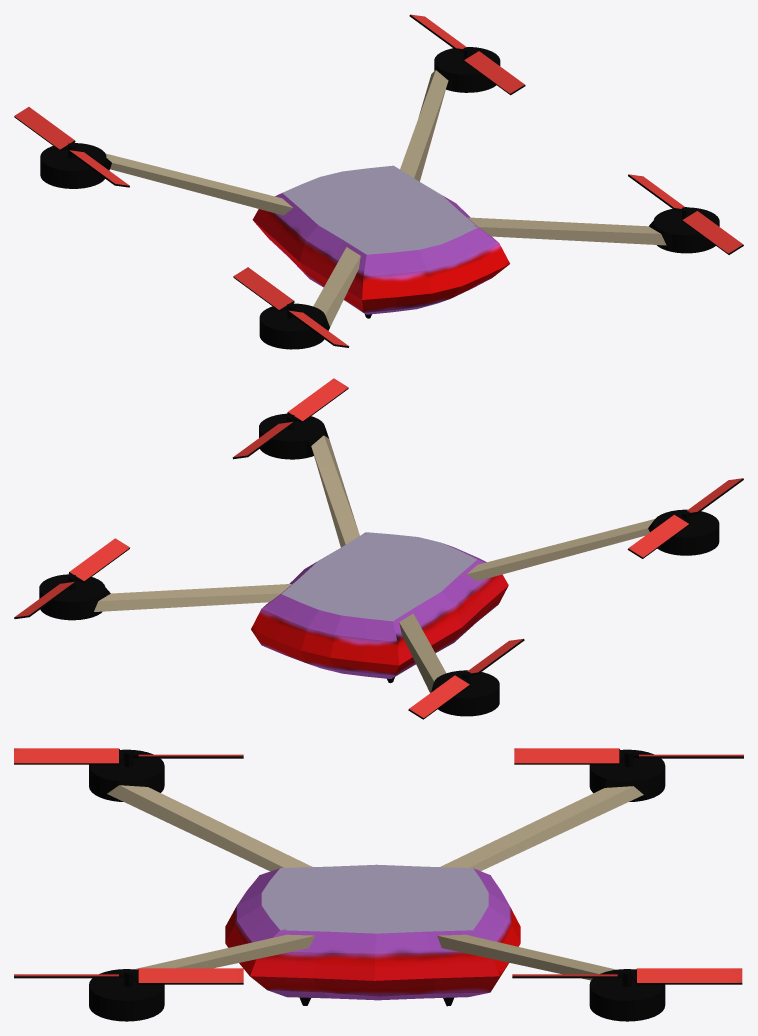
File: drona.obj
3 views of the same model, one above another, from view 1: azimuth 30°, elevation 25°; view 2: azimuth 150°, elevation 25°; view 3: azimuth 270°, elevation 25° (orthographic). The views are drawn at different scales.
Parts seen in each view (by area): view 1: Cube; view 2: Cube; view 3: Cube.
Boxes of the visible parts, x1,y1,x2,y2 form: Cube: (14, 14, 743, 349); Cube: (14, 378, 743, 719); Cube: (14, 748, 743, 1021).
Bounding box in the file's own units: 5.66 × 1.26 × 6.95.
